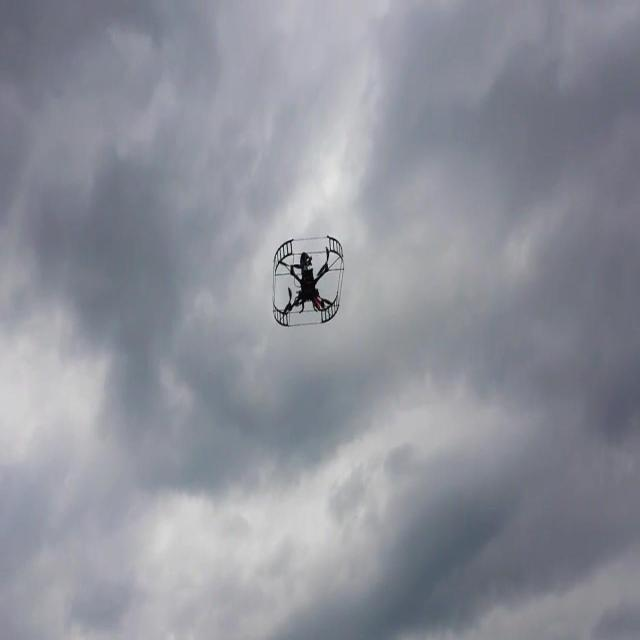drone: (272, 235, 342, 325)
